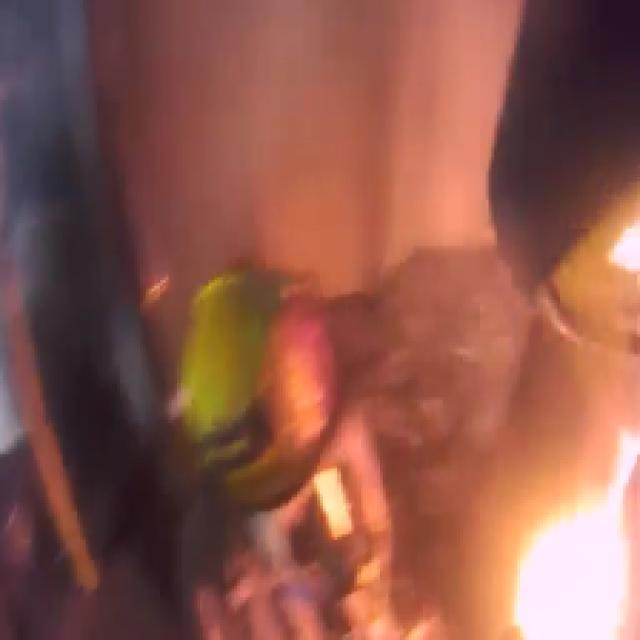Fire: (514, 480, 634, 640)
